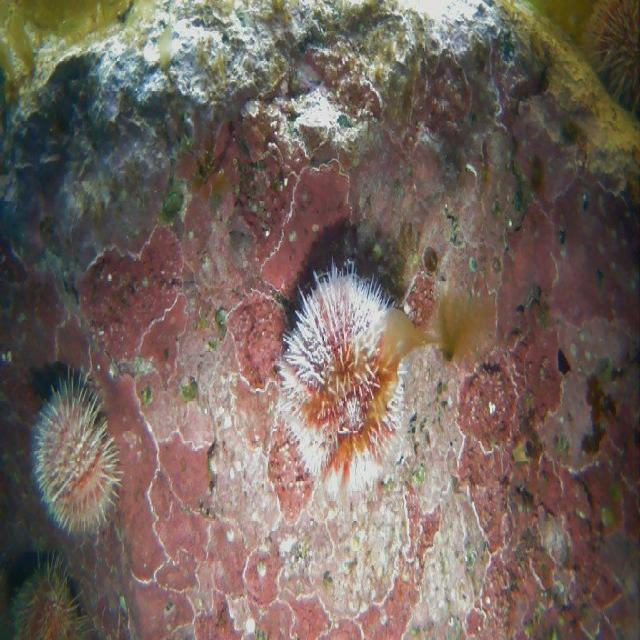Deniz Kestanesi: (277, 257, 408, 500), (30, 366, 125, 540), (8, 549, 93, 640), (590, 0, 640, 116)
